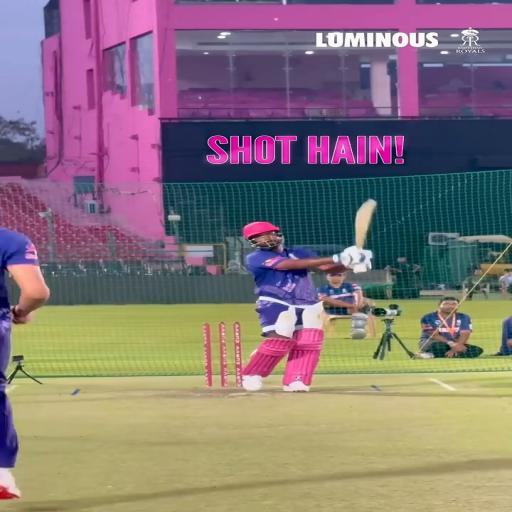Cricket bat: (355, 199, 375, 249)
